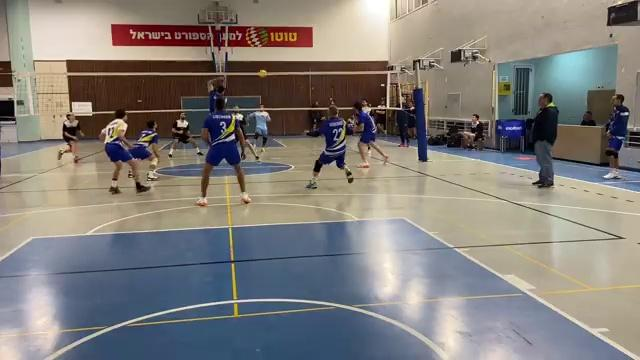ball: (259, 67, 270, 79)
